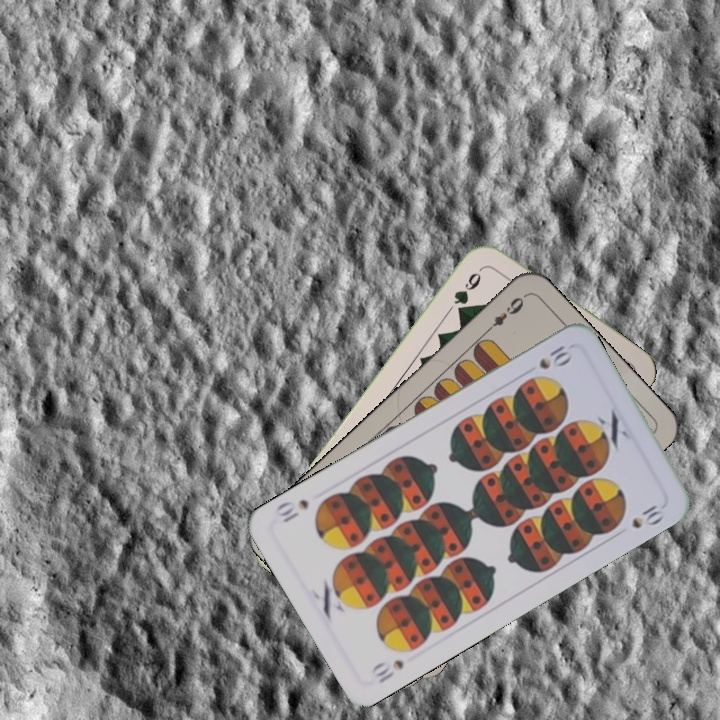E9: (481, 291, 528, 336)
G9: (449, 262, 487, 318)
S10: (367, 655, 407, 686), (534, 341, 573, 372)
